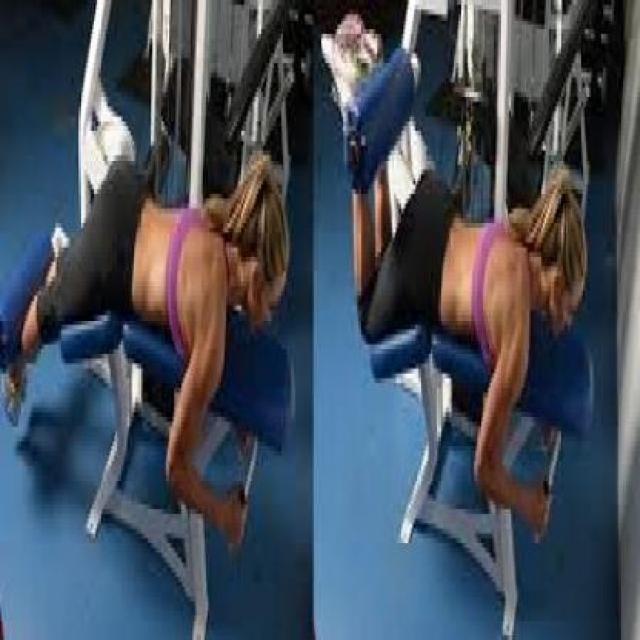reg curl machine: (318, 4, 598, 640), (0, 134, 305, 640)
